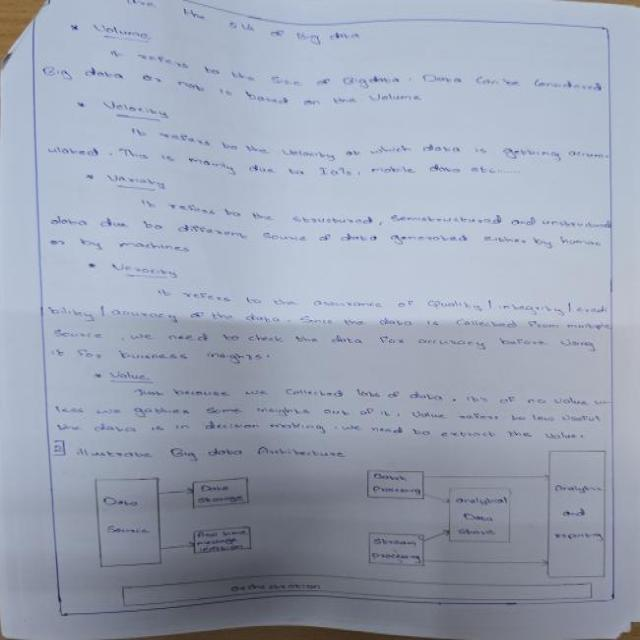Figure Detection - v3 Dataset Version2: (76, 444, 621, 614)
